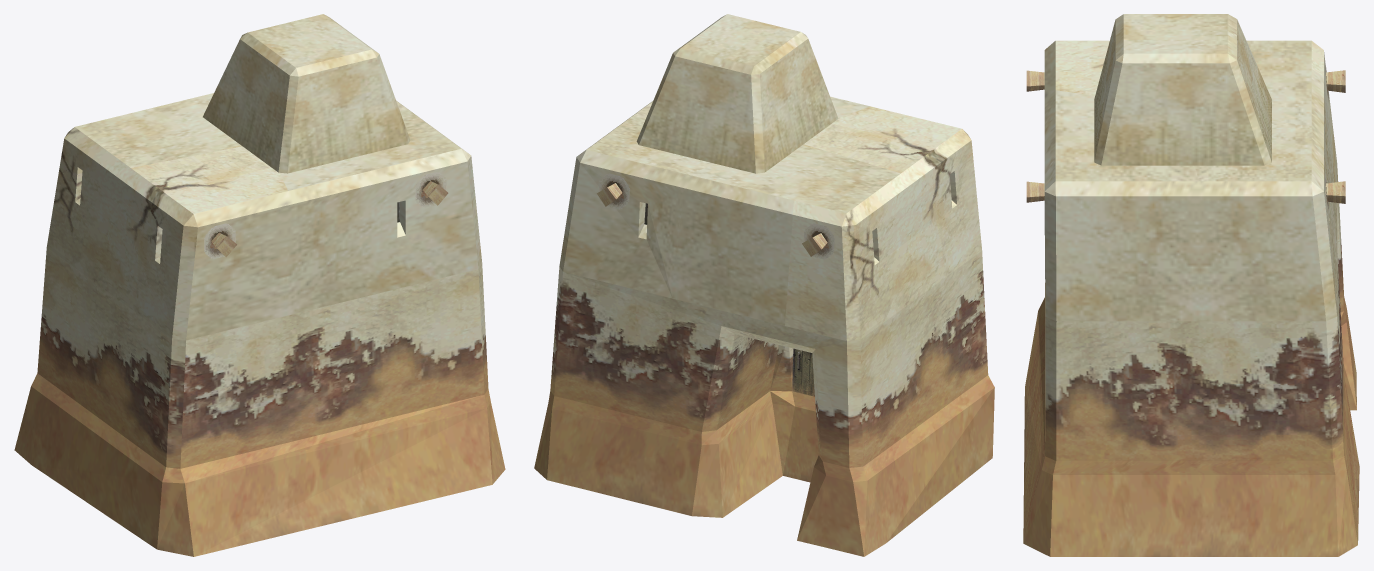
Rendered from C2SMCITY2H.obj.
3 views of the same model, side by side, from view 1: azimuth 30°, elevation 25°; view 2: azimuth 150°, elevation 25°; view 3: azimuth 270°, elevation 25° (orthographic). The views are drawn at different scales.
Visible parts, largest first — view 1: Node 0; view 2: Node 0; view 3: Node 0.
Part boxes in pixels (box(x1,y1,x2,y2)): Node 0: box(14, 14, 505, 556); Node 0: box(534, 14, 994, 556); Node 0: box(1023, 14, 1359, 556).
Bounding box in the file's own units: 13.81 × 15.76 × 10.65.
4 materials, 4 textured.
